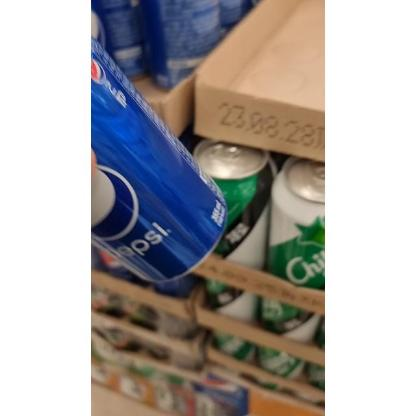Can: (92, 32, 232, 286)
